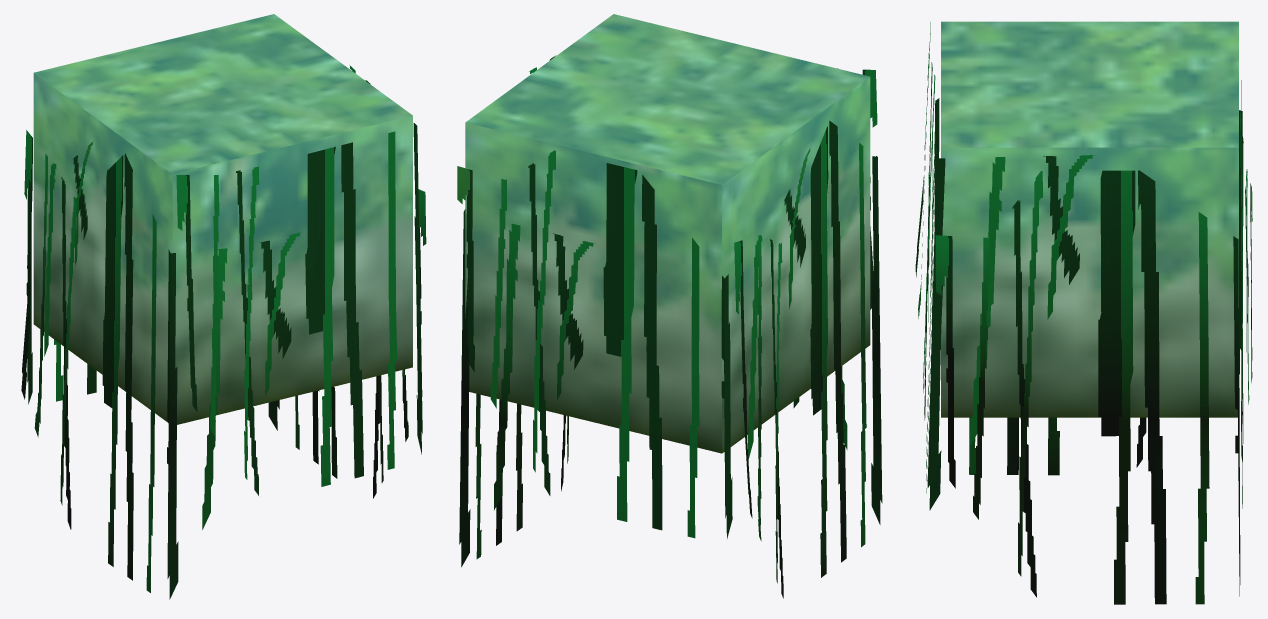
The model's file is spiritcube.glb.
3 renders of one model, left to right at view 1: azimuth 30°, elevation 25°; view 2: azimuth 150°, elevation 25°; view 3: azimuth 270°, elevation 25°, orthographic. The views are drawn at different scales.
Parts seen in each view (by area): view 1: spiritcube.001-col, vine.015, vine.016; view 2: spiritcube.001-col, vine.015, vine.016; view 3: spiritcube.001-col, vine.015, vine.016.
Boxes of the visible parts, <box> form: spiritcube.001-col: <box>33,14,412,424</box>; vine.015: <box>21,130,426,599</box>; vine.016: <box>27,65,422,495</box>; spiritcube.001-col: <box>465,14,870,453</box>; vine.015: <box>459,120,882,598</box>; vine.016: <box>457,55,877,538</box>; spiritcube.001-col: <box>941,21,1238,417</box>; vine.015: <box>927,98,1248,604</box>; vine.016: <box>915,22,1252,510</box>.
Size of the model in its own units: 1.14 by 1.71 by 1.14.
3 materials, 3 textured.
